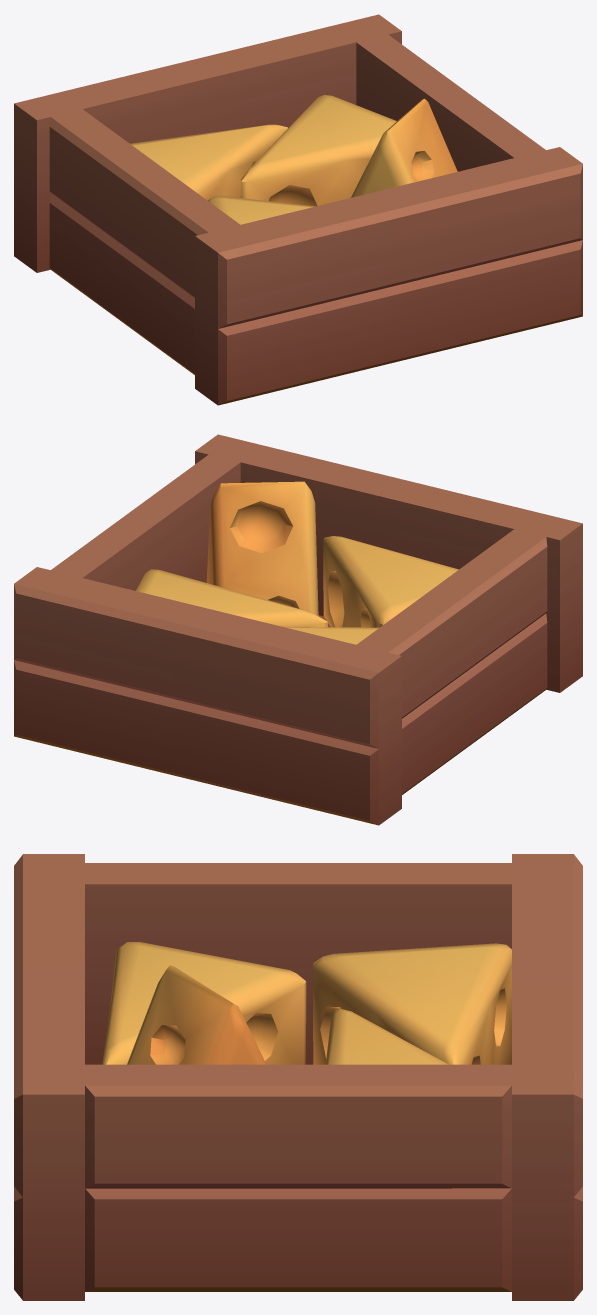
Rendered from kay-caixa-queijos.gltf.
3 views of the same model, one above another, from view 1: azimuth 30°, elevation 25°; view 2: azimuth 150°, elevation 25°; view 3: azimuth 270°, elevation 25° (orthographic). The views are drawn at different scales.
Visible parts, largest first — view 1: crate_cheese; view 2: crate_cheese; view 3: crate_cheese.
Boxes of the visible parts, bbox=[...] form: crate_cheese: bbox=[14, 14, 582, 405]; crate_cheese: bbox=[14, 434, 582, 825]; crate_cheese: bbox=[14, 854, 582, 1300].
Bounding box in the file's own units: 1.3 × 0.6148 × 1.3.
1 material, 1 textured.
